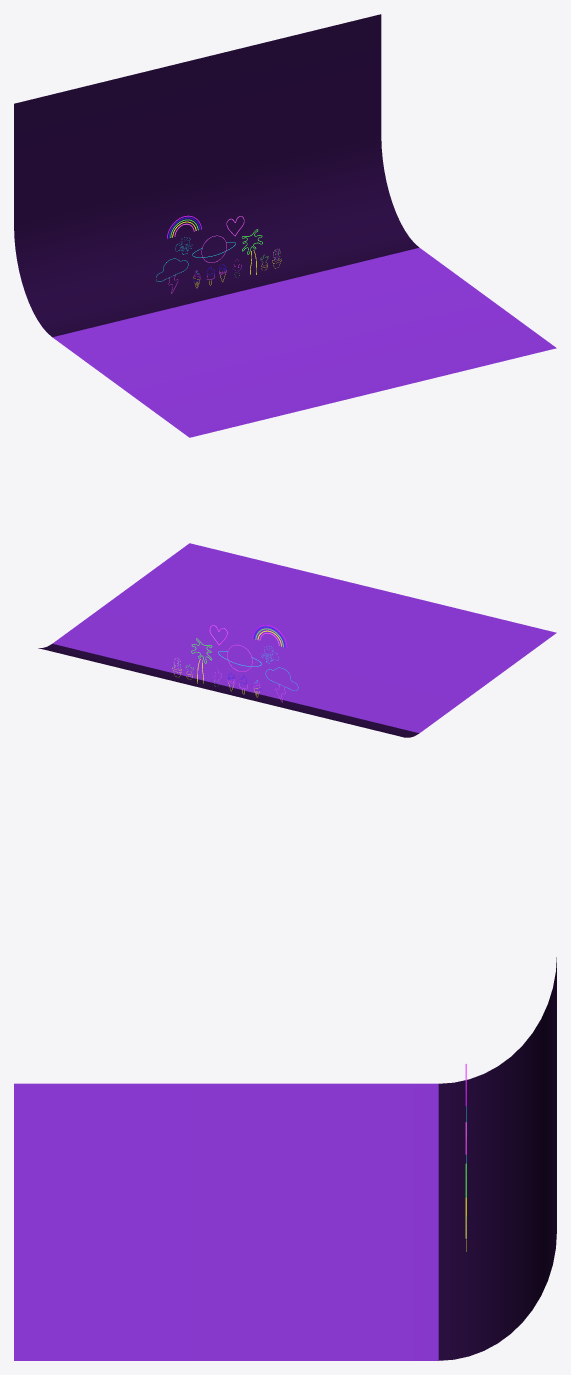
Rendered from neon_collection.glb.
3 views of the same model, one above another, from view 1: azimuth 30°, elevation 25°; view 2: azimuth 150°, elevation 25°; view 3: azimuth 270°, elevation 25° (orthographic). The views are drawn at different scales.
Visible parts, largest first — view 1: Plane; view 2: Plane; view 3: Plane.
Boxes of the visible parts, box(x1,y1,x2,y2) form: Plane: box(14, 14, 556, 437); Plane: box(38, 543, 556, 737); Plane: box(14, 957, 556, 1360).
Bounding box in the file's own units: 11.7 × 6.26 × 9.69.
